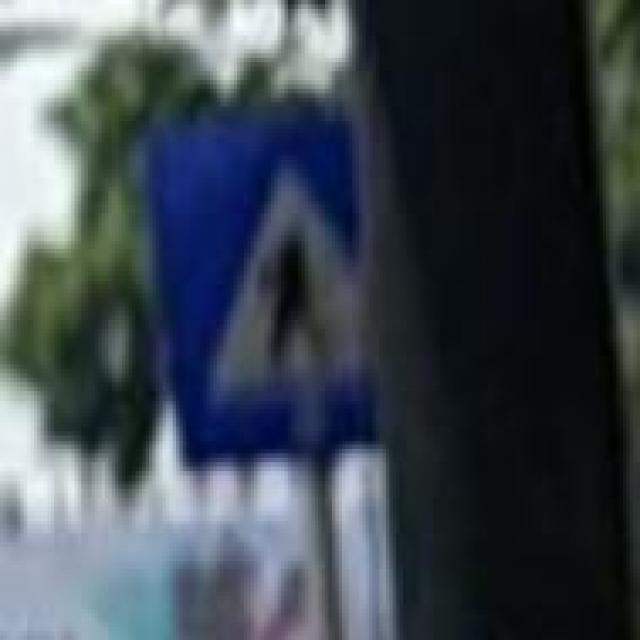traffic sign: (149, 120, 369, 462)
